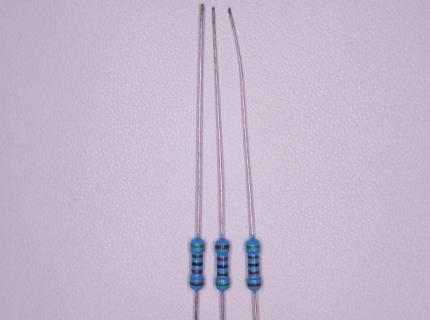Black band: (192, 262, 203, 266), (217, 265, 229, 268), (248, 263, 260, 266)
Brown band: (248, 282, 262, 287), (190, 281, 203, 286), (215, 245, 229, 249), (192, 254, 203, 258), (217, 272, 228, 276), (248, 255, 258, 259)
Green band: (191, 245, 205, 248), (246, 245, 260, 248), (216, 283, 229, 286)
Red band: (248, 270, 260, 274), (217, 257, 228, 261), (192, 270, 202, 274)
